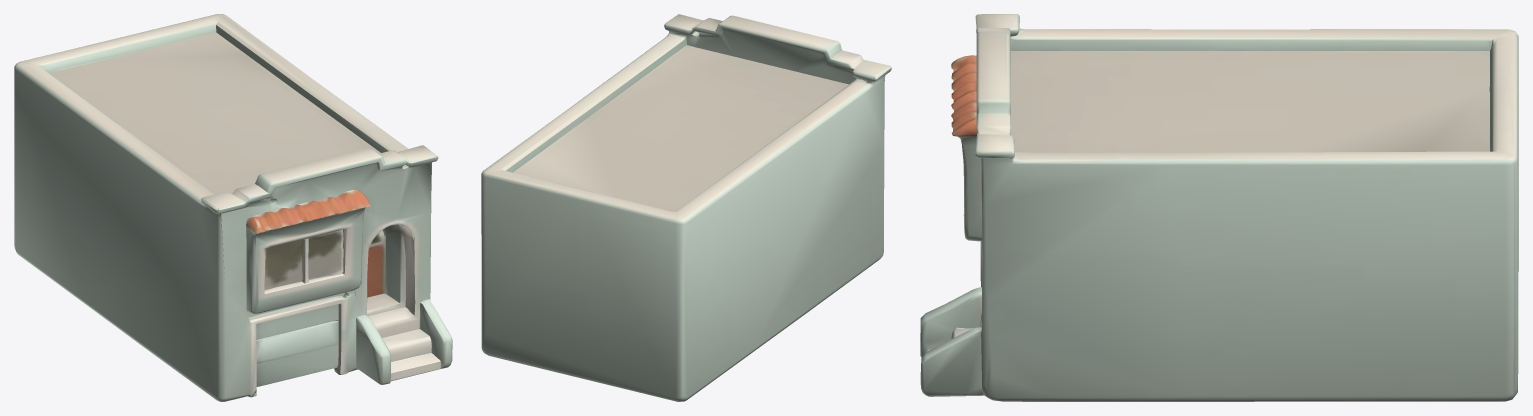
File: sunset-doelger.glb
3 renders of one model, left to right at view 1: azimuth 30°, elevation 25°; view 2: azimuth 150°, elevation 25°; view 3: azimuth 270°, elevation 25°, orthographic. The views are drawn at different scales.
Parts seen in each view (by area): view 1: sunset-doelger; view 2: sunset-doelger; view 3: sunset-doelger.
Boxes of the visible parts, x1,y1,x2,y2 form: sunset-doelger: (14,14,452,401); sunset-doelger: (481,14,891,401); sunset-doelger: (920,14,1518,401).
Size of the model in its own units: 4.4 by 4 by 8.
Materials: 1 (1 with a texture image).
